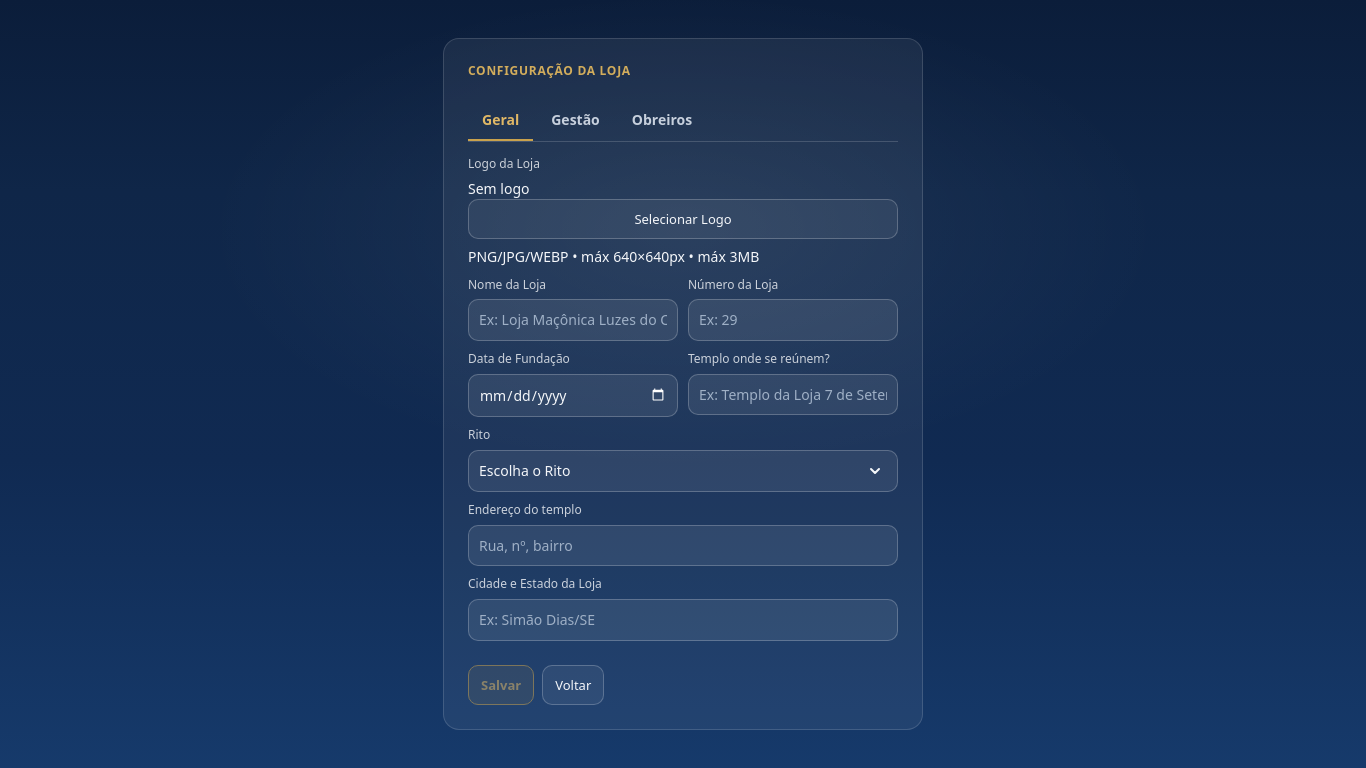
LojaConfigScreen › mostra o botao de cadastro apenas na aba Gestao
The width and height of the screenshot is (1366, 768).
Check: the button "Cadastrar Gestão" is not shown
Click the tab "Gestão": (576, 120) [537,100,614,141]
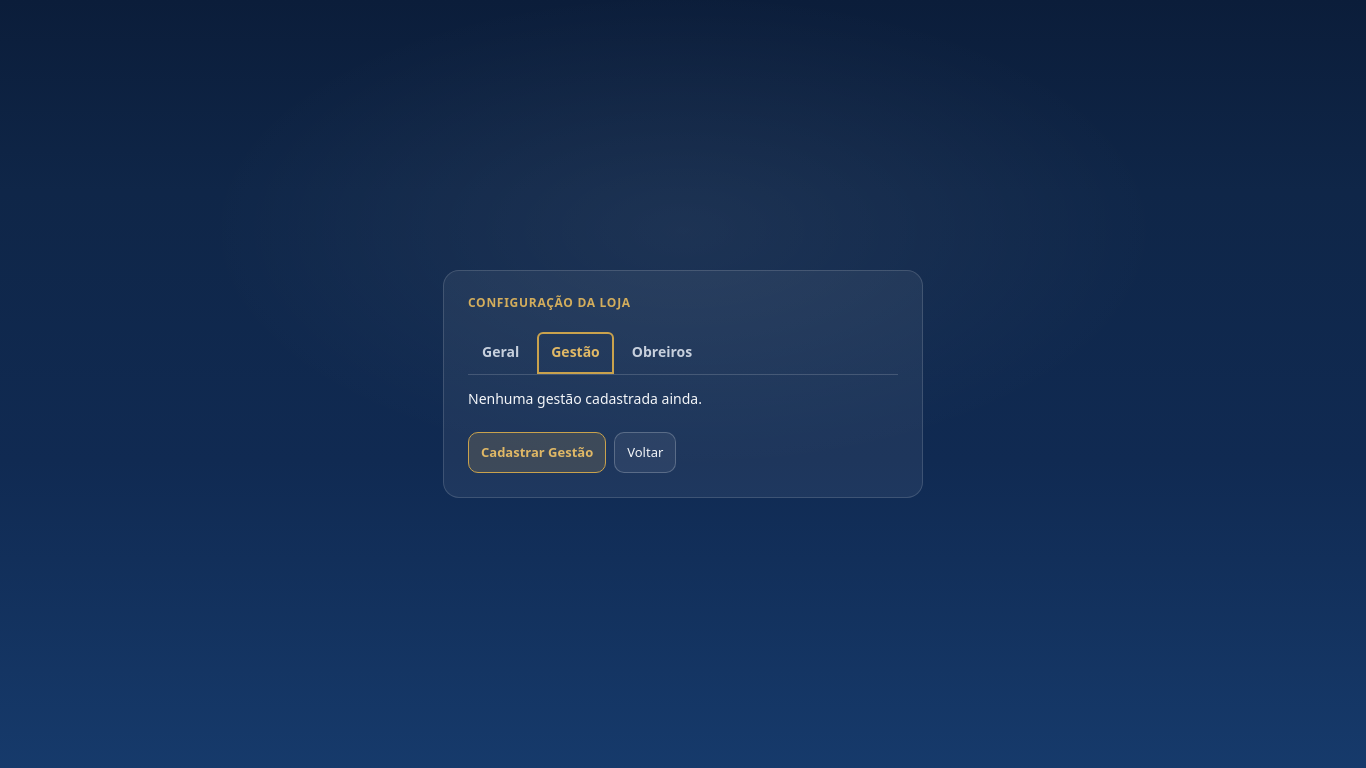
Check: the button "Cadastrar Gestão" is shown, box [468,432,606,473]
